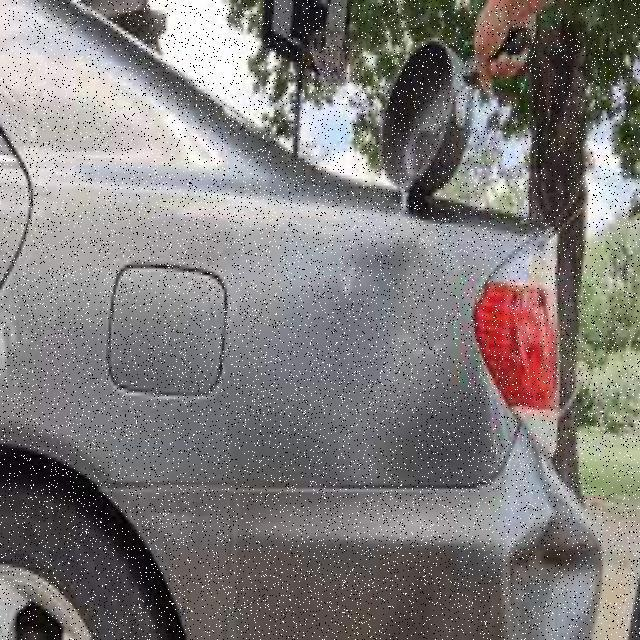car damage: (17, 193, 482, 537), (345, 423, 629, 637)
